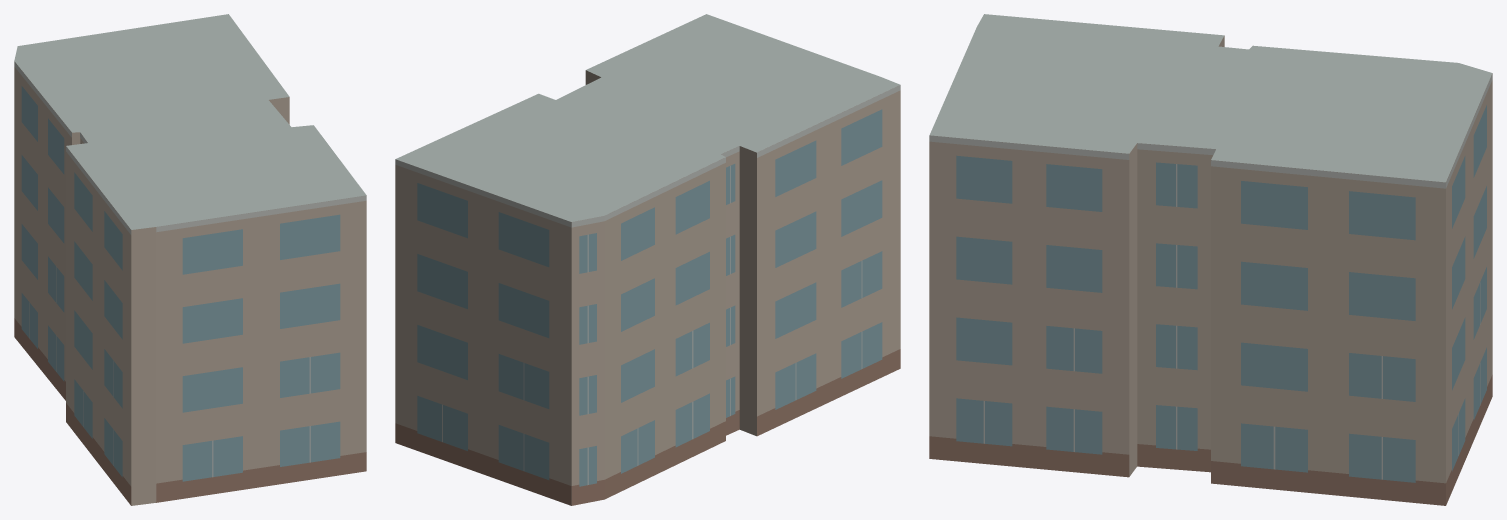
Rendered from survey-upis-32916543.glb.
3 renders of one model, left to right at view 1: azimuth 30°, elevation 25°; view 2: azimuth 150°, elevation 25°; view 3: azimuth 270°, elevation 25°, orthographic. The views are drawn at different scales.
Parts seen in each view (by area): view 1: survey-upis-32916543.tmp; view 2: survey-upis-32916543.tmp; view 3: survey-upis-32916543.tmp.
Boxes of the visible parts, x1,y1,x2,y2 form: survey-upis-32916543.tmp: [14, 14, 366, 505]; survey-upis-32916543.tmp: [395, 14, 900, 505]; survey-upis-32916543.tmp: [929, 14, 1492, 505].
Size of the model in its own units: 14.08 by 12.6 by 19.89.
